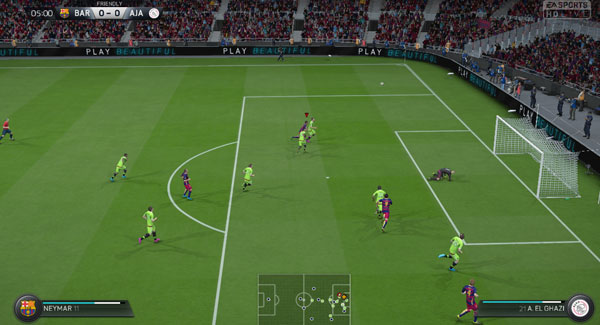ball: (378, 79, 385, 88)
goal: (494, 113, 585, 201)
player: (459, 279, 478, 324), (444, 231, 464, 272), (140, 205, 161, 244), (381, 193, 394, 231), (112, 152, 129, 180), (428, 167, 458, 180), (372, 185, 384, 217), (182, 169, 194, 199), (244, 163, 254, 189), (298, 126, 307, 153), (308, 115, 316, 140)
